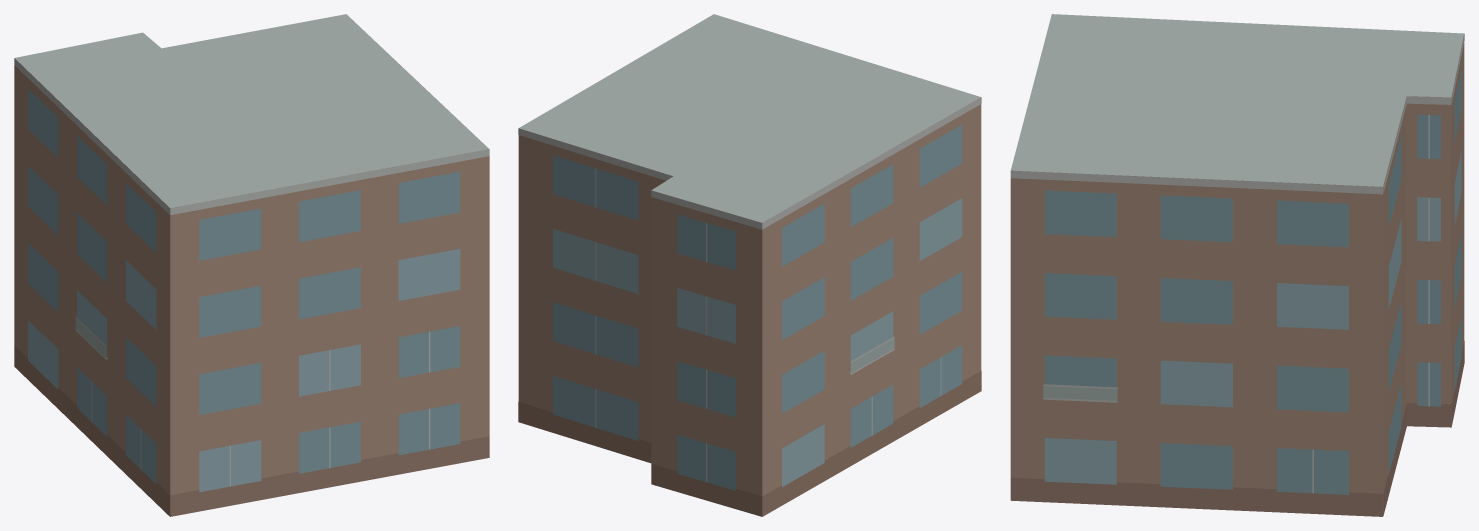
Rendered from survey-upis-32716502.glb.
The picture shows the model from 3 angles, left to right: view 1: azimuth 30°, elevation 25°; view 2: azimuth 150°, elevation 25°; view 3: azimuth 270°, elevation 25°; orthographic projection. The views are drawn at different scales.
Visible parts, largest first — view 1: survey-upis-32716502.tmp; view 2: survey-upis-32716502.tmp; view 3: survey-upis-32716502.tmp.
Boxes of the visible parts, box(x1,y1,x2,y2) form: survey-upis-32716502.tmp: box(14, 14, 489, 516); survey-upis-32716502.tmp: box(518, 14, 981, 516); survey-upis-32716502.tmp: box(1010, 14, 1464, 516).
Bounding box in the file's own units: 12.03 × 10.7 × 13.34.
